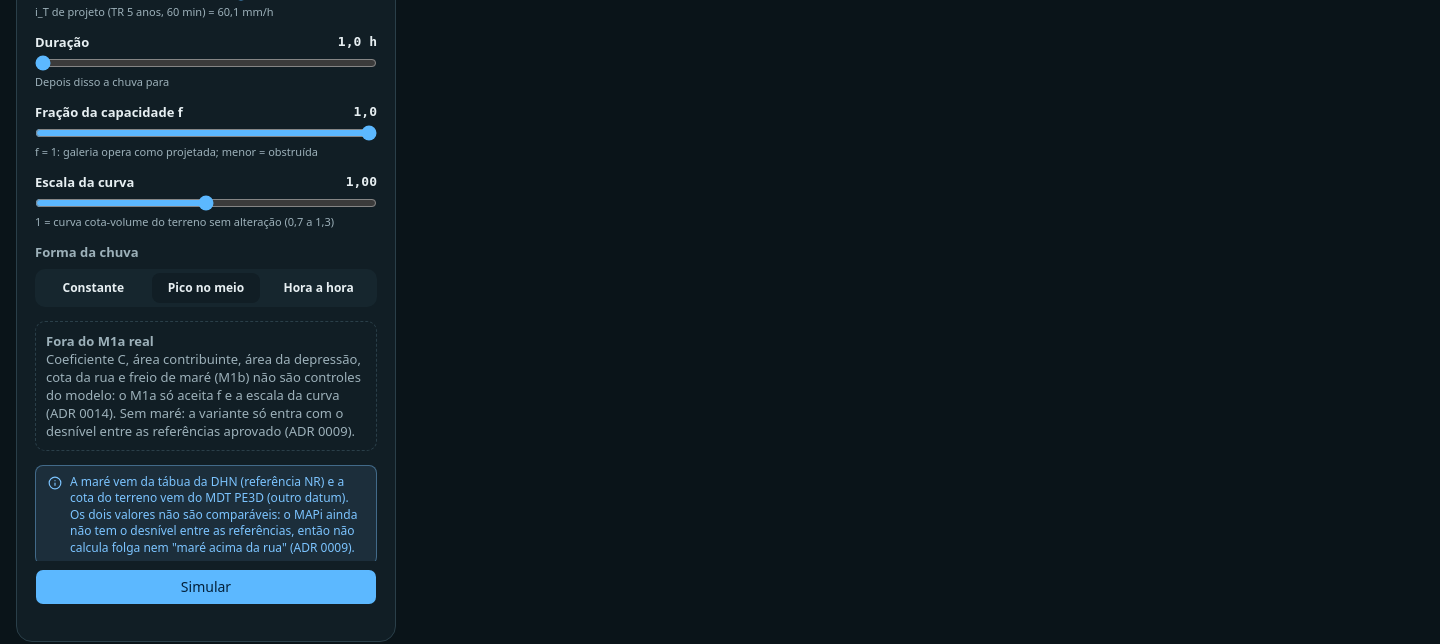
Test: SimulatorPage › sem ponto escolhido pede o ponto
(page scrolled)
Click the button "Simular": (206, 587) [35, 569, 377, 605]
(page scrolled)
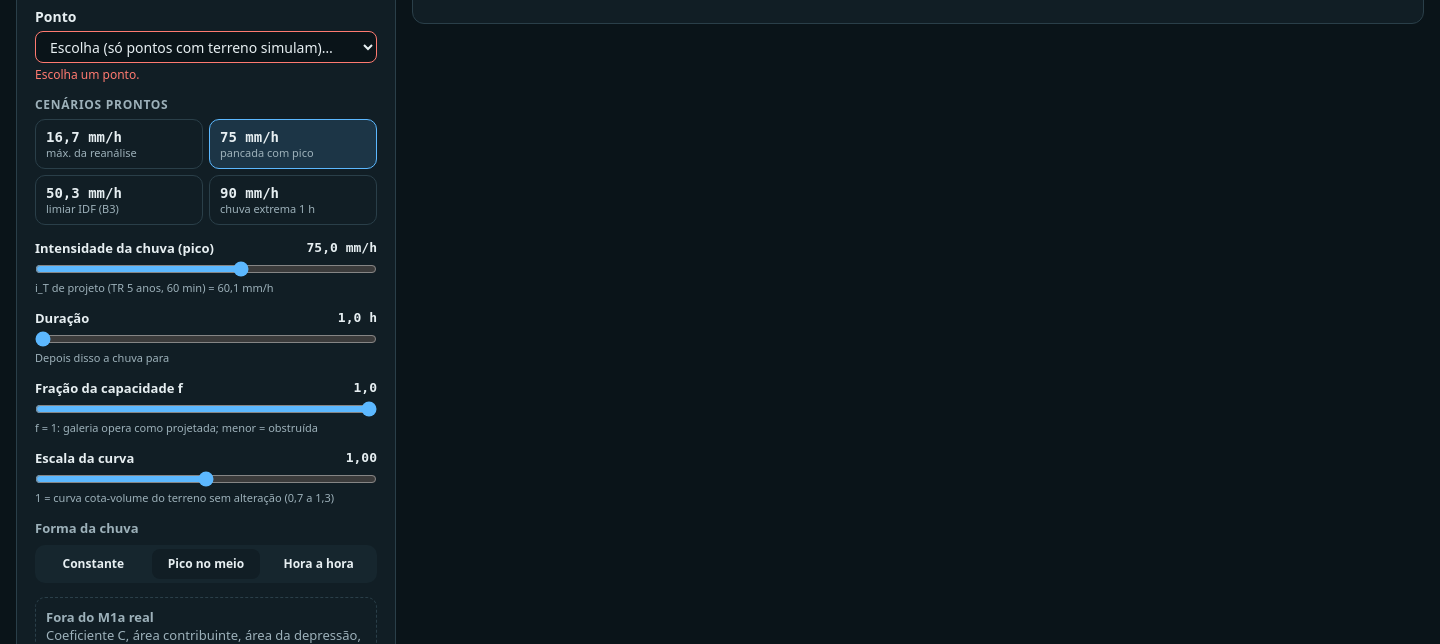
Check: the text "Escolha um ponto." is shown, box [35, 66, 139, 83]
